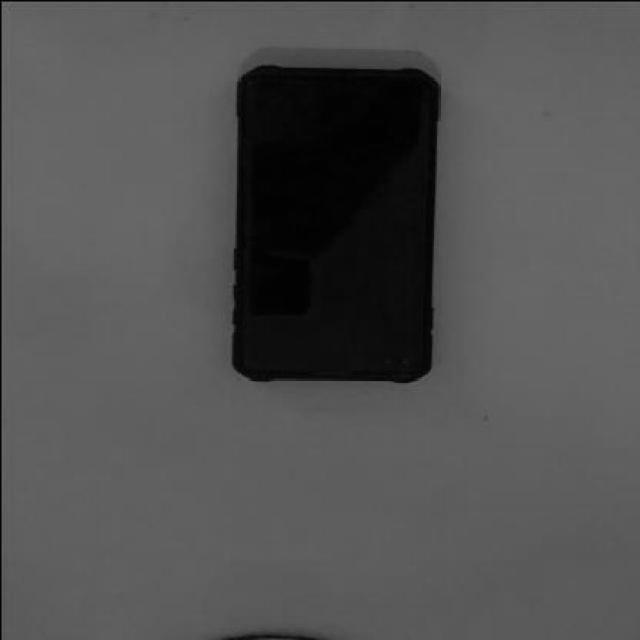fake: (231, 62, 438, 380)
